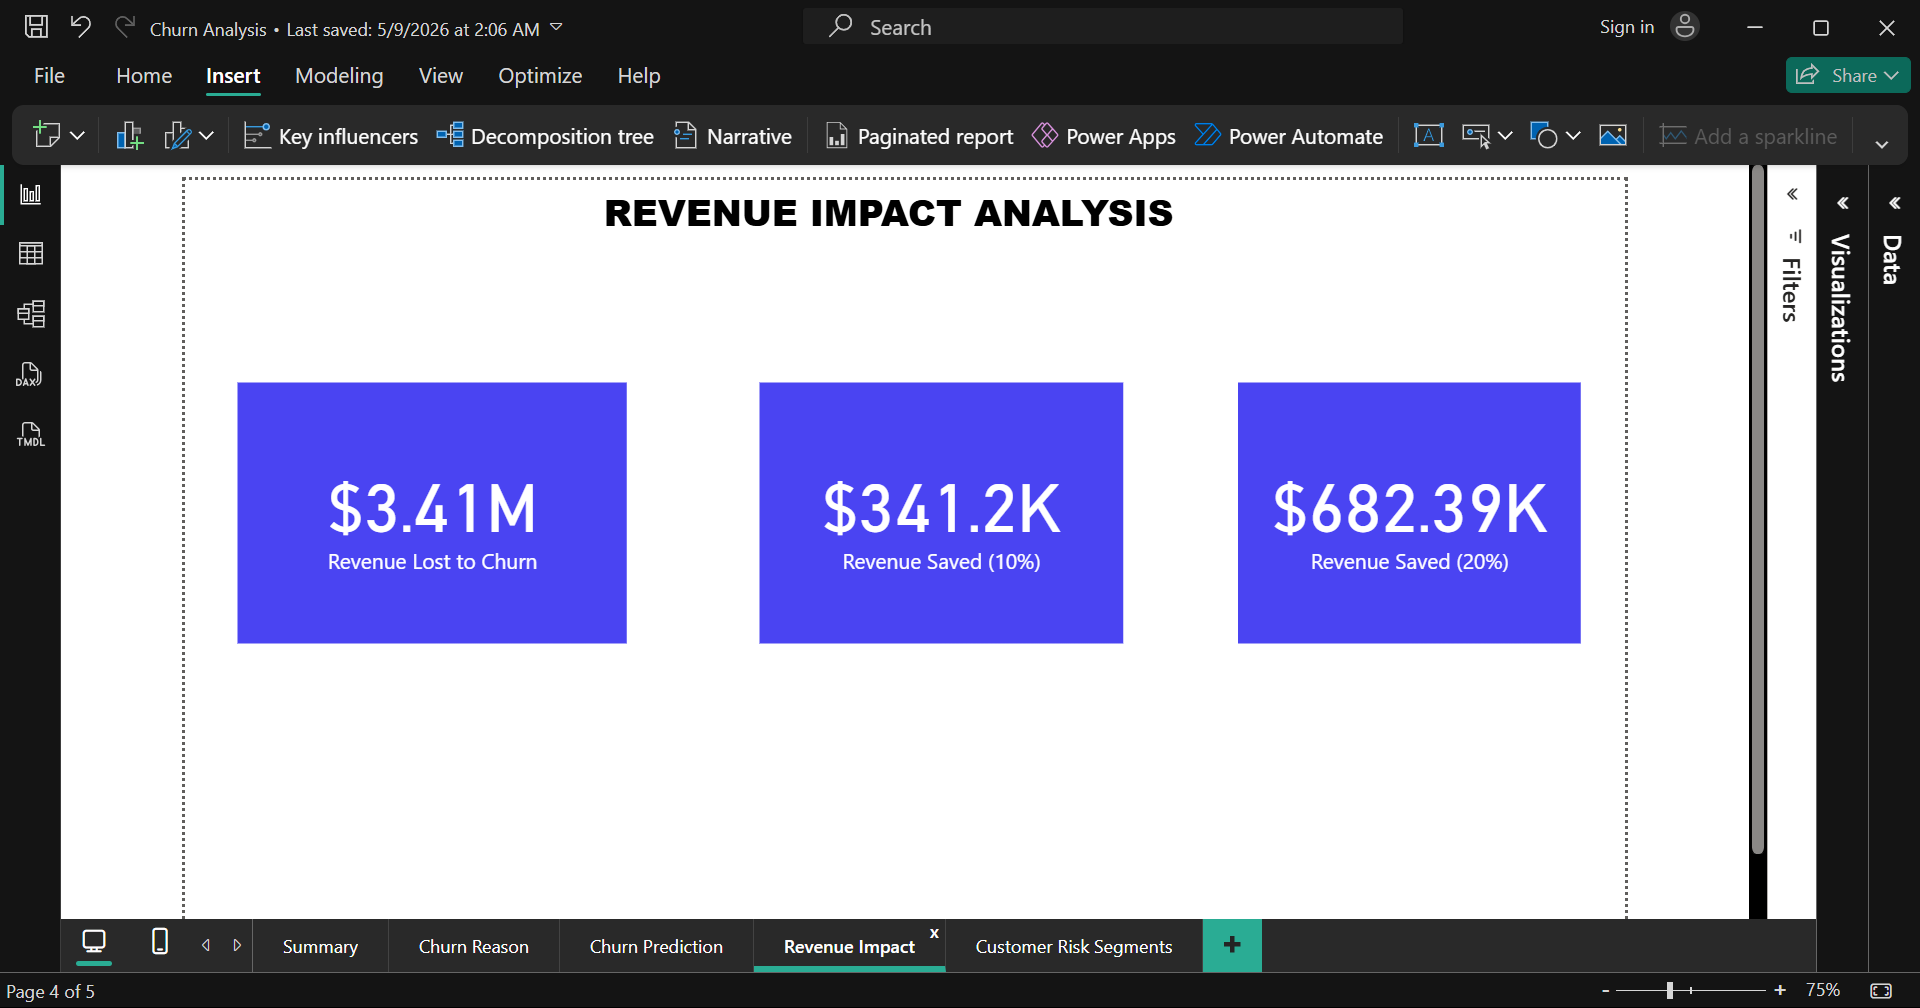

This screenshot's page, from the dashboard's own definition file:
{"tool":"powerbi","page":{"name":"Revenue Impact","canvas":[1280,720],"ordinal":3},"visuals":[{"type":"card","fields":{"Values":["Revenue Impact.Revenue Lost to Churn"]},"box":[46.4,180.6,346.2,231.9],"z":0},{"type":"card","fields":{"Values":["Revenue Impact.Revenue Saved (10%)"]},"box":[510.2,180.6,323,231.9],"z":1000},{"type":"card","fields":{"Values":["Revenue Impact.Revenue Saved (20%)"]},"box":[935.9,180.6,304.8,231.9],"z":2000},{"type":"textbox","box":[122.6,0,1005.5,64.6],"z":3000}]}

Visuals, with their boxes on the page's 1280x720 design canvas (x1, y1, x2, y2). These are canvas units, not pixel positions in the 1920x1008 screenshot, which may show the page scaled, cropped or inside an application window:
card - Revenue Impact.Revenue Lost to Churn: bbox(46, 181, 393, 412)
card - Revenue Impact.Revenue Saved (10%): bbox(510, 181, 833, 412)
card - Revenue Impact.Revenue Saved (20%): bbox(936, 181, 1241, 412)
textbox: bbox(123, 0, 1128, 65)
